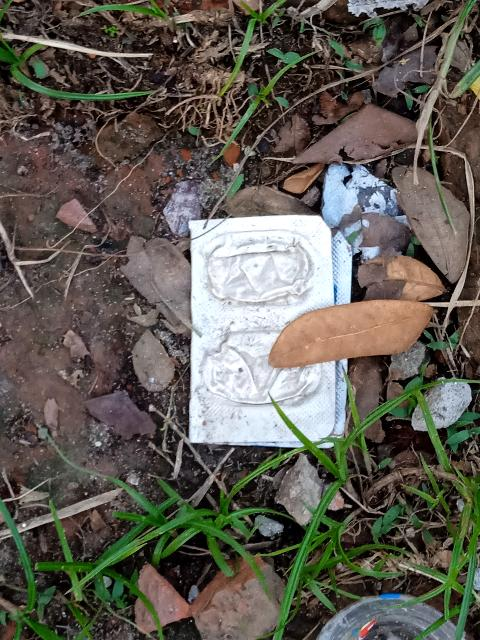medicine: (181, 215, 358, 447)
